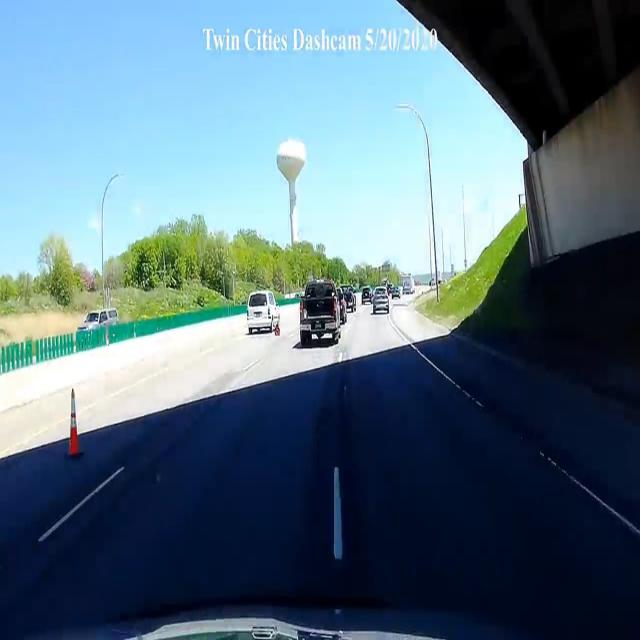cone: (64, 382, 84, 462)
